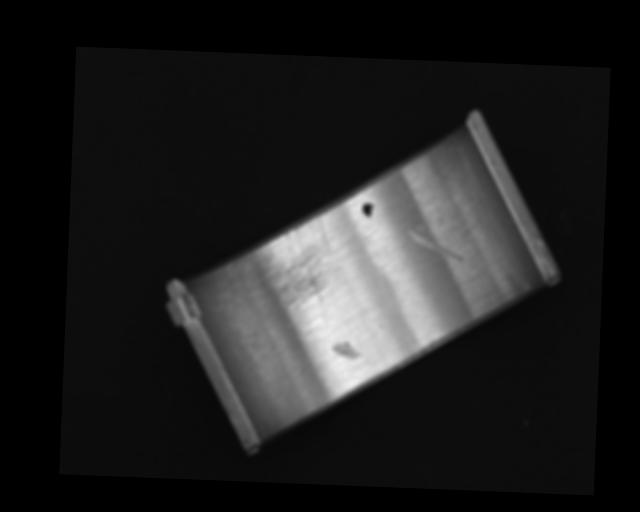blot: (361, 201, 374, 218)
bruise: (330, 340, 362, 359)
nick: (406, 230, 463, 261), (394, 184, 416, 255)
scratch: (233, 211, 347, 313)
